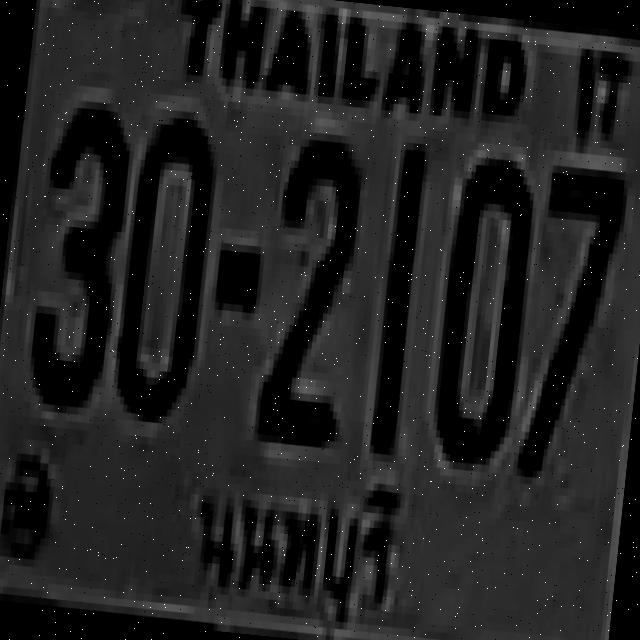0: (426, 156, 538, 468), (112, 107, 220, 418)
1: (365, 138, 426, 452)
2: (255, 130, 363, 442)
3: (24, 100, 132, 404)
7: (517, 159, 626, 478)
Nonthaburi: (170, 451, 413, 638)
